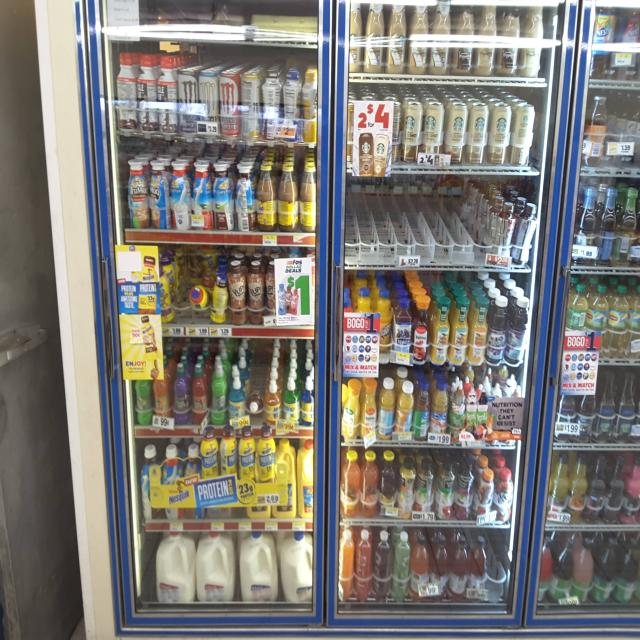empty: (350, 177, 487, 269)
